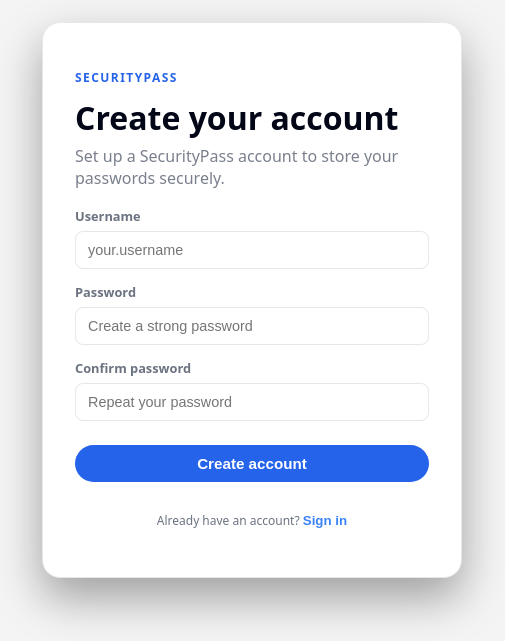
Register Page › shows loading state while registering
This screenshot has width=505, height=641.
In the field with placeholder "your.username": [252, 250] box [75, 231, 429, 269], type "testuser"
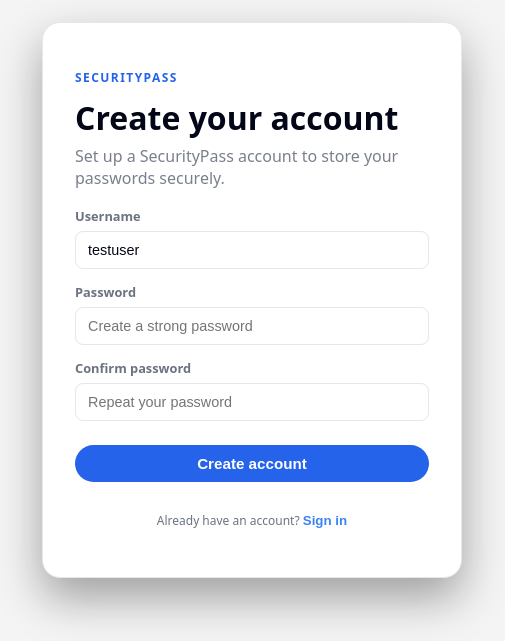
In the password field with placeholder "Create a strong password": [252, 326] box [75, 307, 429, 345], type "Password123"
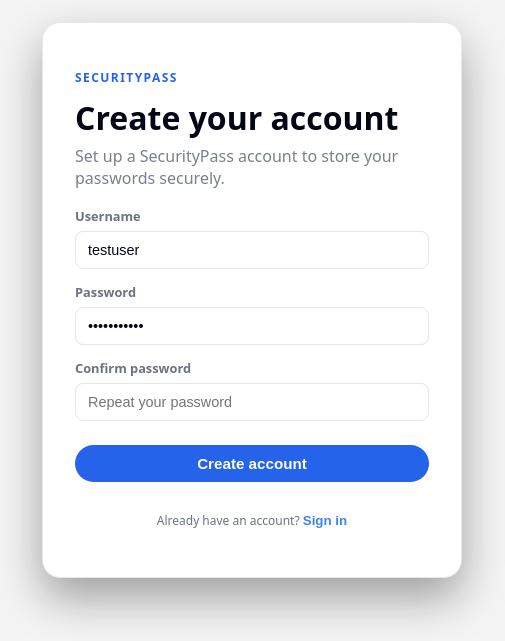
In the password field with placeholder "Repeat your password": [252, 402] box [75, 383, 429, 421], type "Password123"
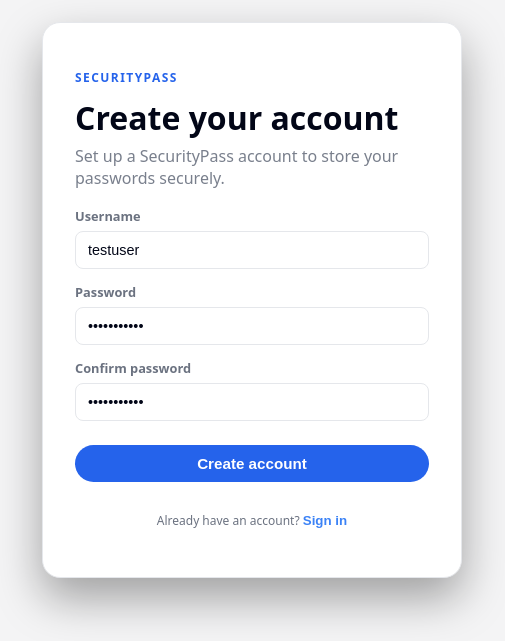
Click the button "Create account": [252, 464] box [75, 445, 429, 482]
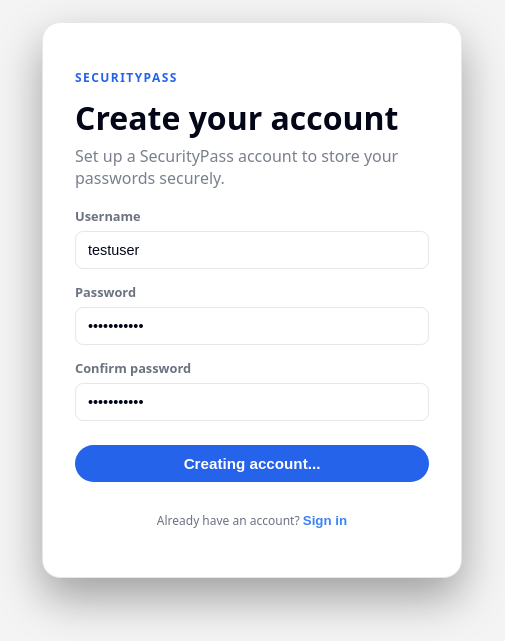
Expected: the button "Creating account..." is shown, [75, 445, 429, 482]
